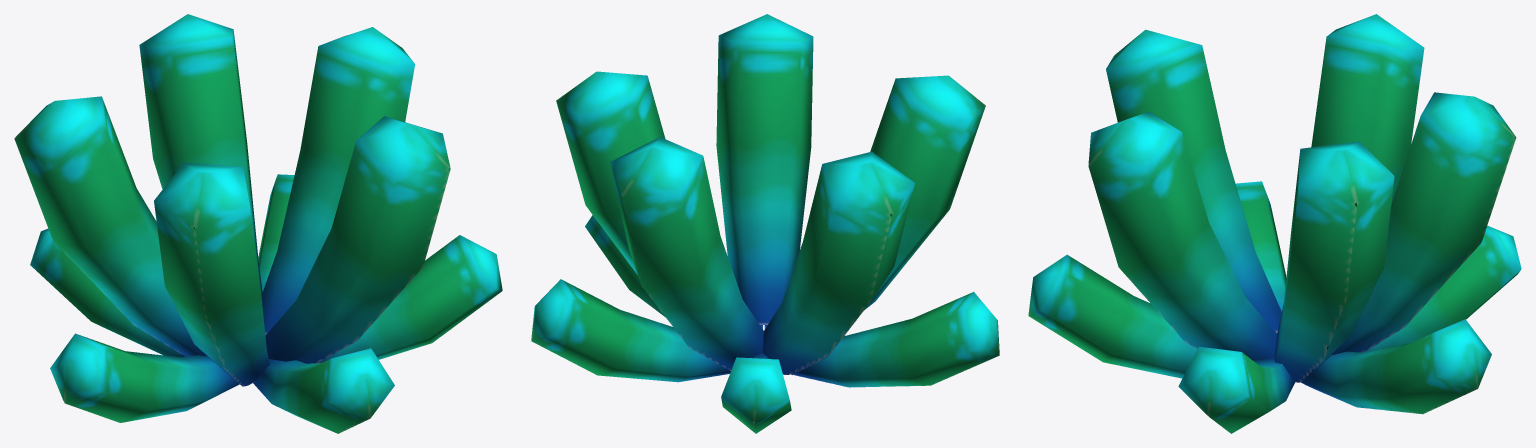
The model's file is Coral_36.FBX.
The picture shows the model from 3 angles, left to right: view 1: azimuth 30°, elevation 25°; view 2: azimuth 150°, elevation 25°; view 3: azimuth 270°, elevation 25°; orthographic projection. The views are drawn at different scales.
Visible parts, largest first — view 1: Coral_36; view 2: Coral_36; view 3: Coral_36.
Part boxes in pixels (x1,y1,x2,y2): Coral_36: (14,14,502,433); Coral_36: (531,14,999,433); Coral_36: (1028,14,1521,433).
Bounding box in the file's own units: 33.73 × 22.78 × 33.27.
